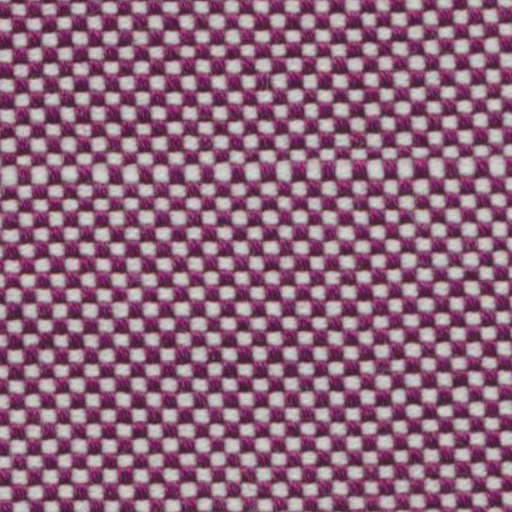TuoSha: (12, 140, 496, 203)
